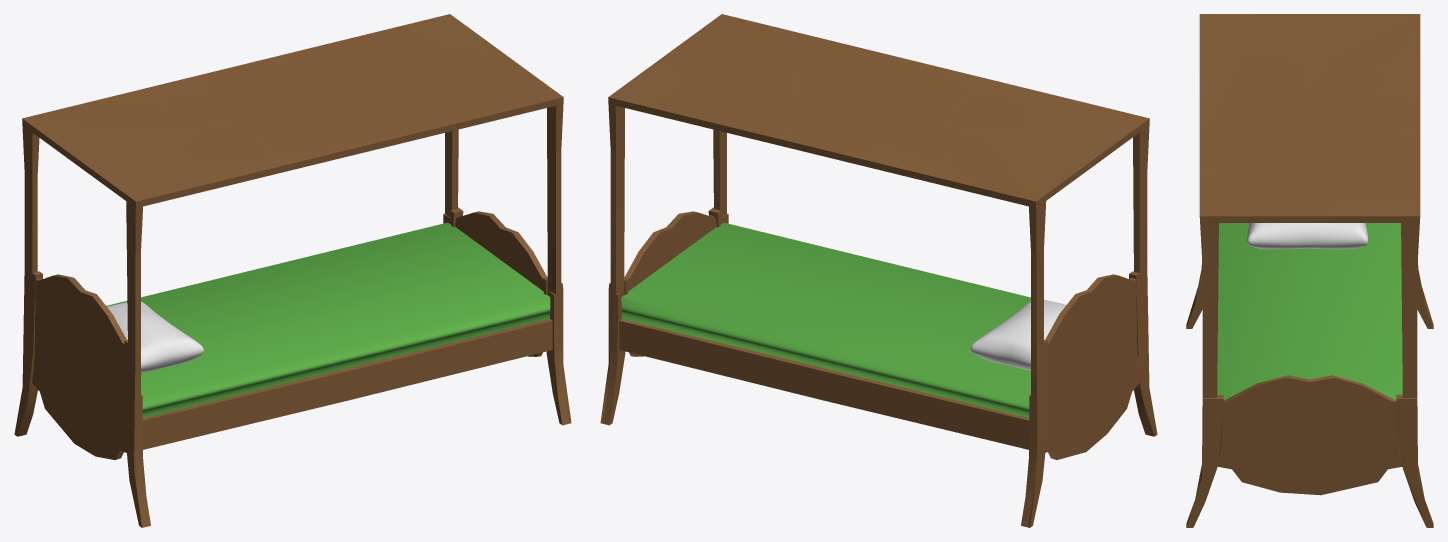
File: Cama.fbx
3 renders of one model, left to right at view 1: azimuth 30°, elevation 25°; view 2: azimuth 150°, elevation 25°; view 3: azimuth 270°, elevation 25°, orthographic. The views are drawn at different scales.
Parts seen in each view (by area): view 1: Cama, Couchão, Cube; view 2: Cama, Couchão, Cube; view 3: Cama, Couchão, Cube.
Boxes of the visible parts, x1=… form: Cama: x1=14, y1=14, x2=571, y2=527; Couchão: x1=106, y1=222, x2=550, y2=418; Cube: x1=107, y1=301, x2=203, y2=372; Cama: x1=600, y1=14, x2=1157, y2=527; Couchão: x1=621, y1=222, x2=1030, y2=417; Cube: x1=970, y1=299, x2=1066, y2=370; Cama: x1=1186, y1=14, x2=1433, y2=527; Couchão: x1=1217, y1=223, x2=1402, y2=400; Cube: x1=1247, y1=223, x2=1368, y2=249.
Bounding box in the file's own units: 873 × 624 × 449.
3 materials, 2 textured.
